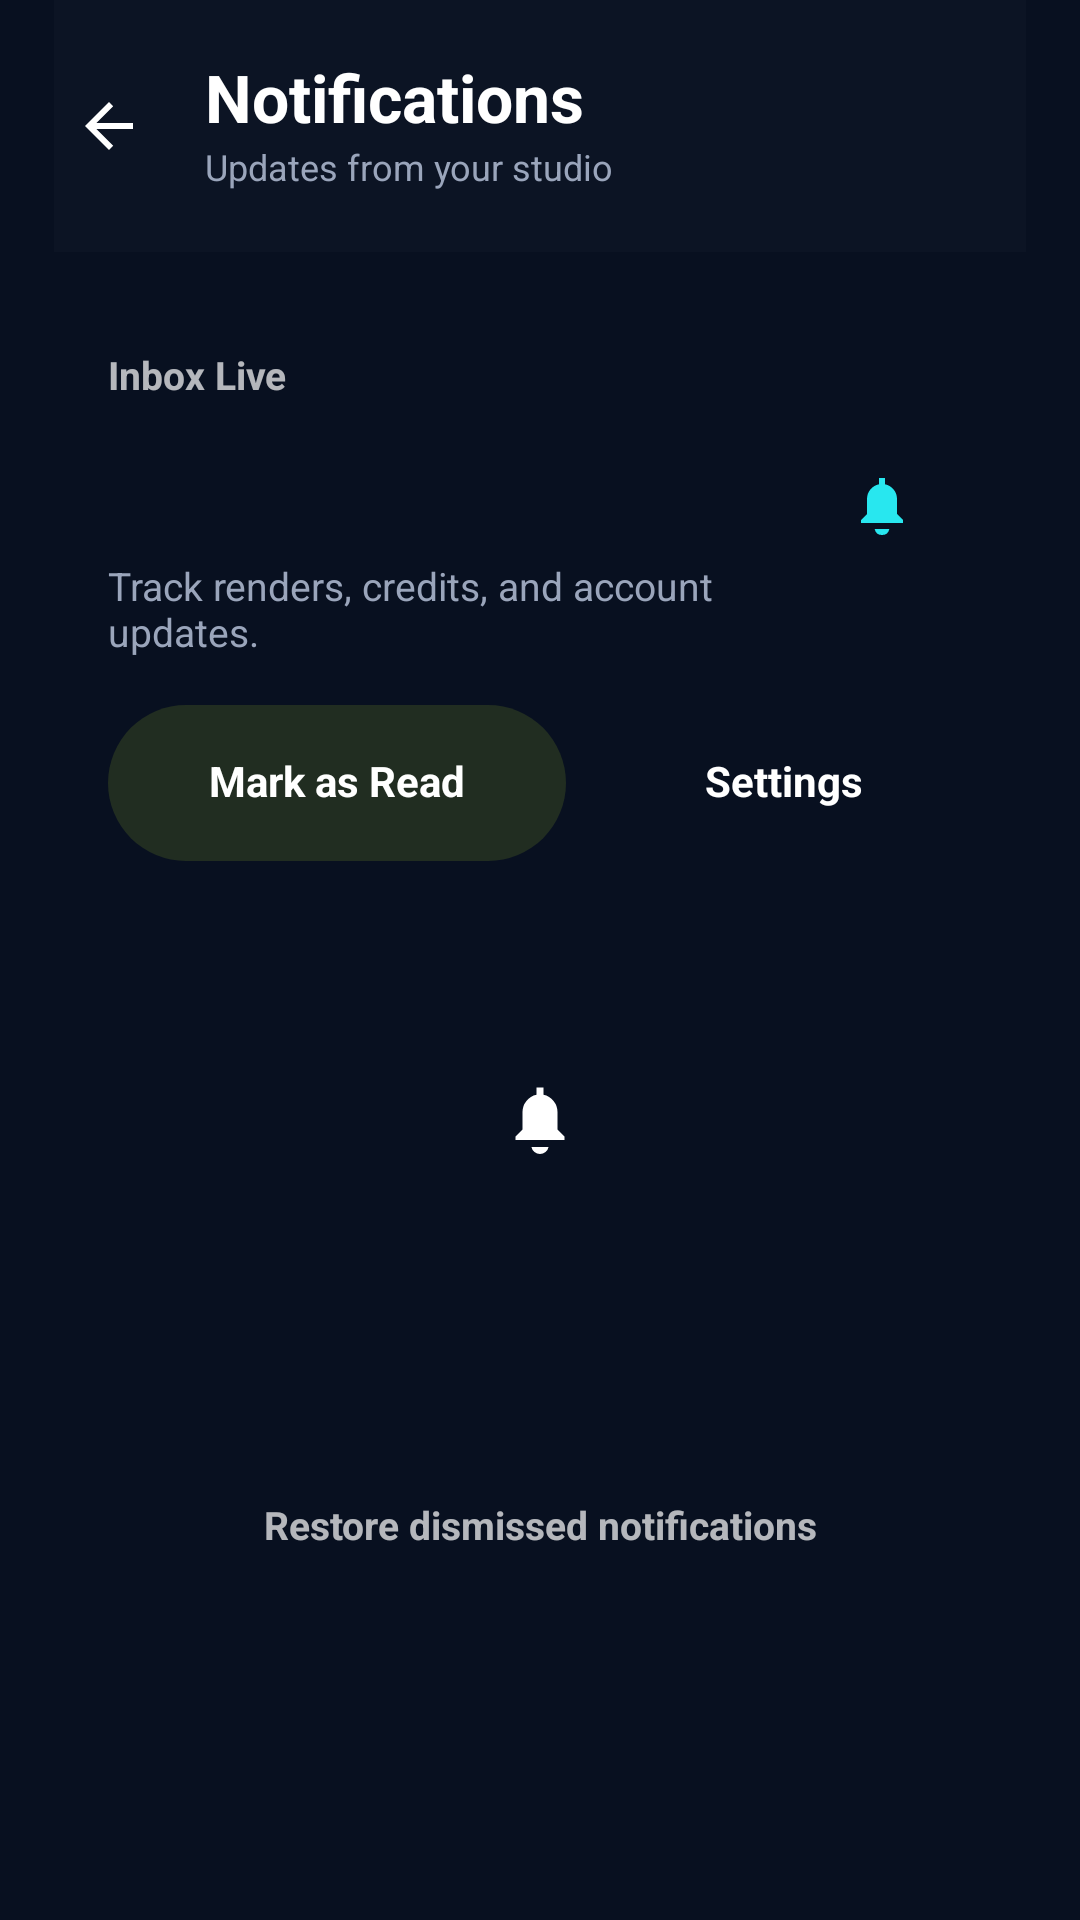

Named icons in this screenshot (1080 x 1920) and their bounding boxes, (x1, y1, x2, y2):
lumora back: (85, 102, 133, 150)
lumora bell: (861, 478, 903, 535), (515, 1087, 565, 1154)
